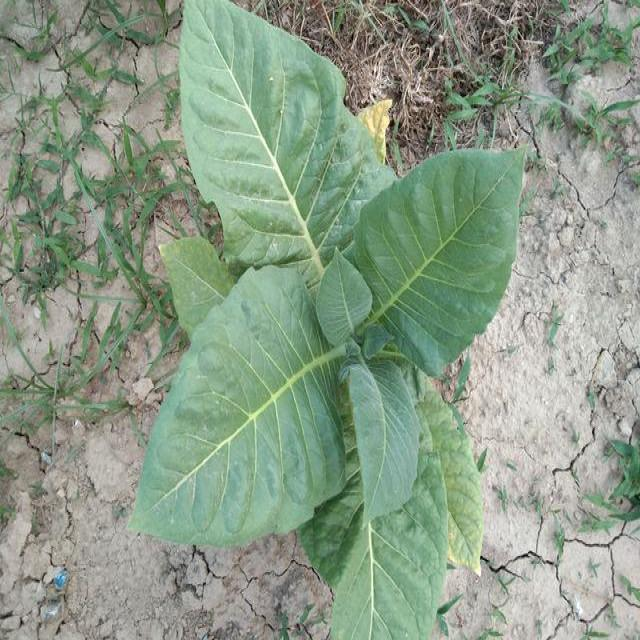crop: (124, 0, 527, 640)
